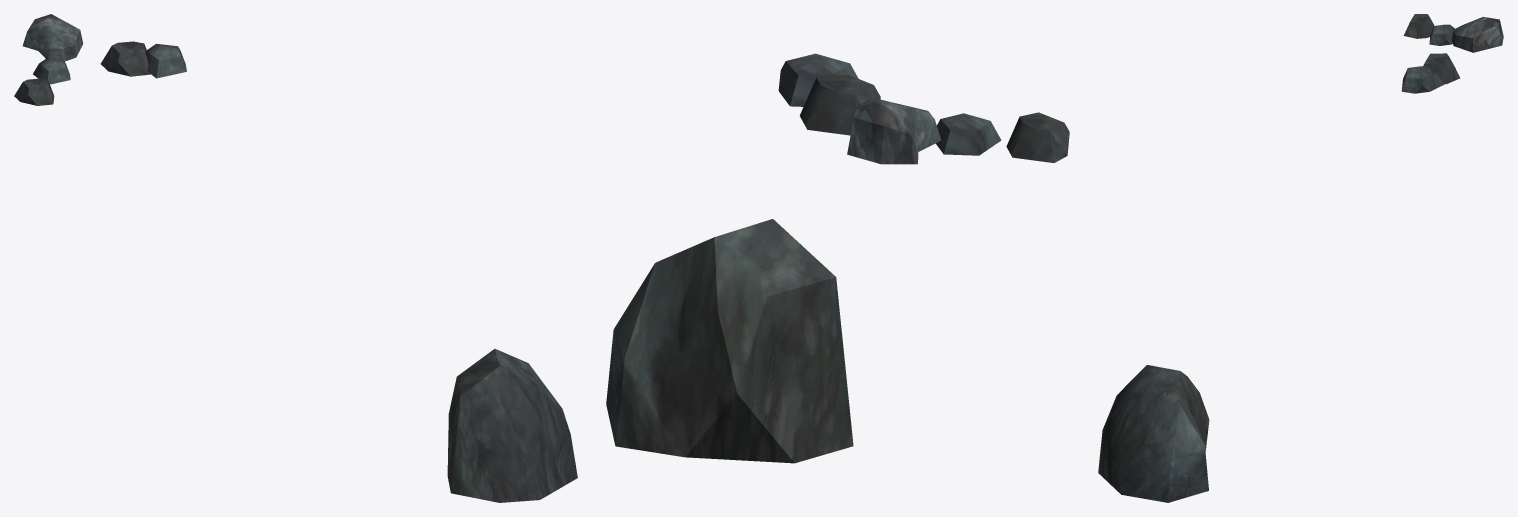
Rendered from object_rubble19.fbx.
3 views of the same model, side by side, from view 1: azimuth 30°, elevation 25°; view 2: azimuth 150°, elevation 25°; view 3: azimuth 270°, elevation 25° (orthographic). The views are drawn at different scales.
Parts seen in each view (by area): view 1: Material_#238683587/cliffside; view 2: Material_#238683587/cliffside; view 3: Material_#238683587/cliffside.
Boxes of the visible parts, bbox=[...] form: Material_#238683587/cliffside: bbox=[14, 14, 577, 502]; Material_#238683587/cliffside: bbox=[606, 53, 1069, 463]; Material_#238683587/cliffside: bbox=[1098, 14, 1503, 502].
Size of the model in its own units: 6.59 by 6 by 6.48.
